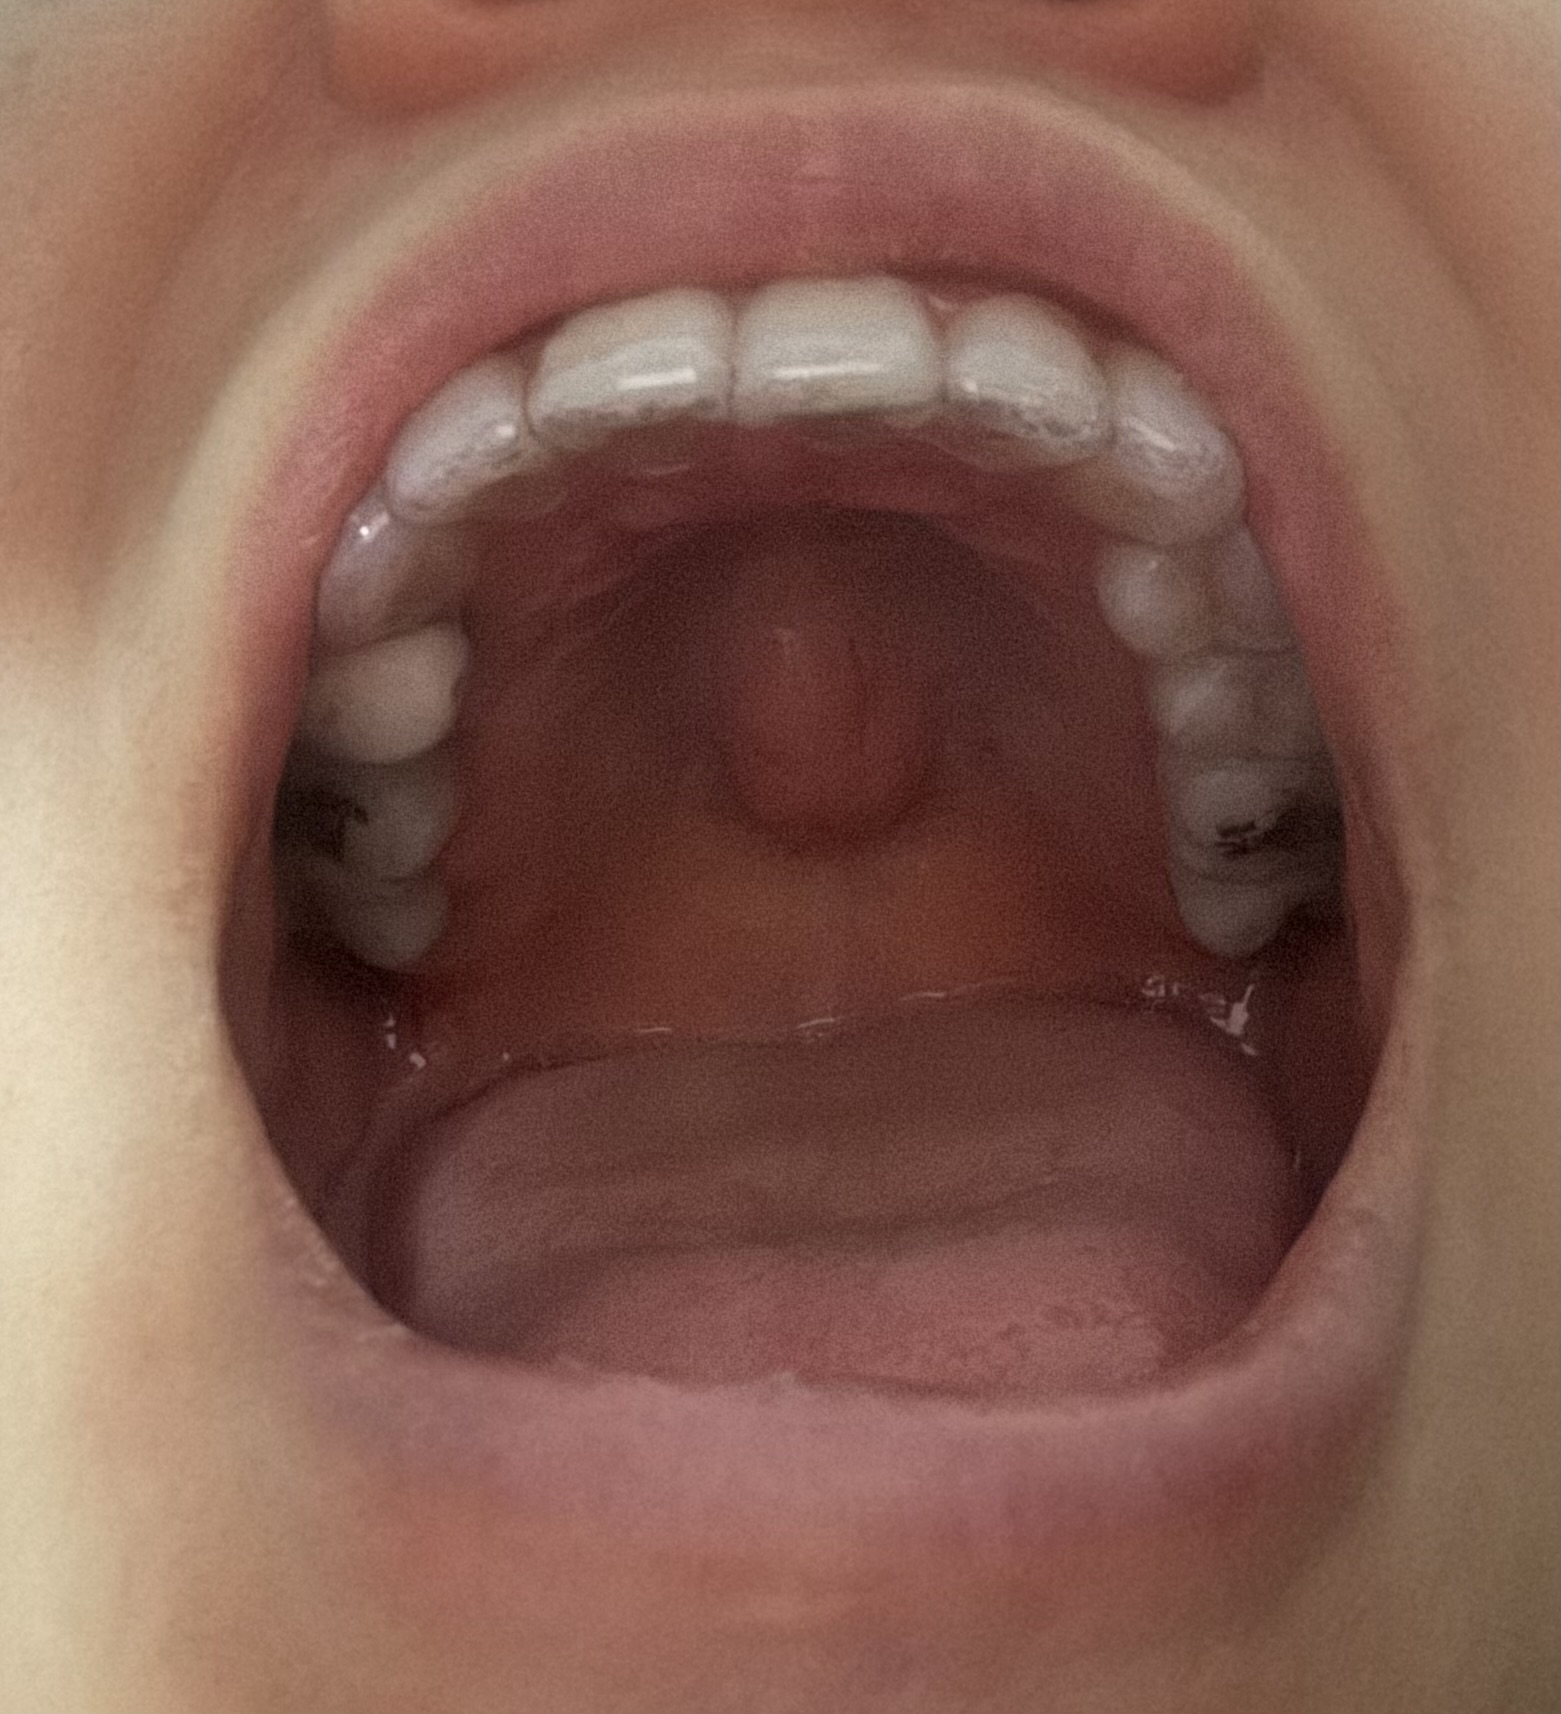teeth: (1060, 348, 1242, 537), (734, 275, 928, 428), (537, 288, 725, 446), (388, 357, 564, 524), (943, 293, 1103, 458), (1112, 535, 1277, 660), (285, 850, 454, 972), (1174, 748, 1325, 867), (321, 502, 461, 624), (297, 760, 449, 864), (337, 627, 454, 739), (1164, 667, 1297, 755), (1191, 881, 1316, 954)
